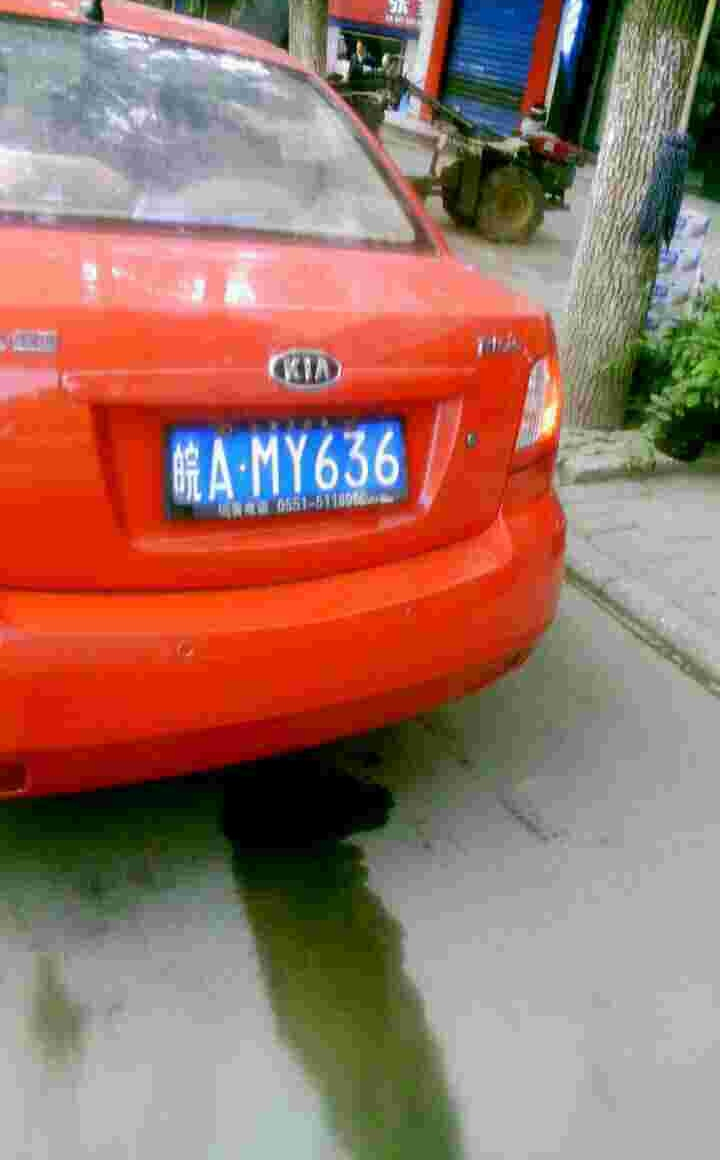license_plate: (183, 421, 408, 518)
